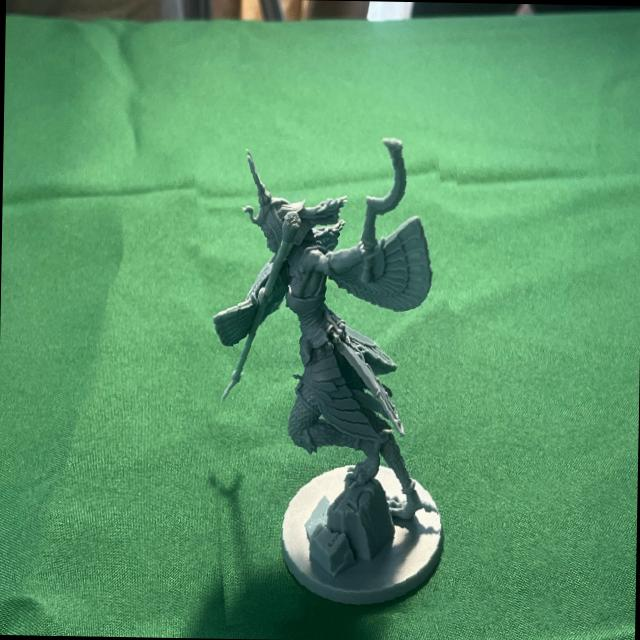isis: (193, 130, 468, 624)
